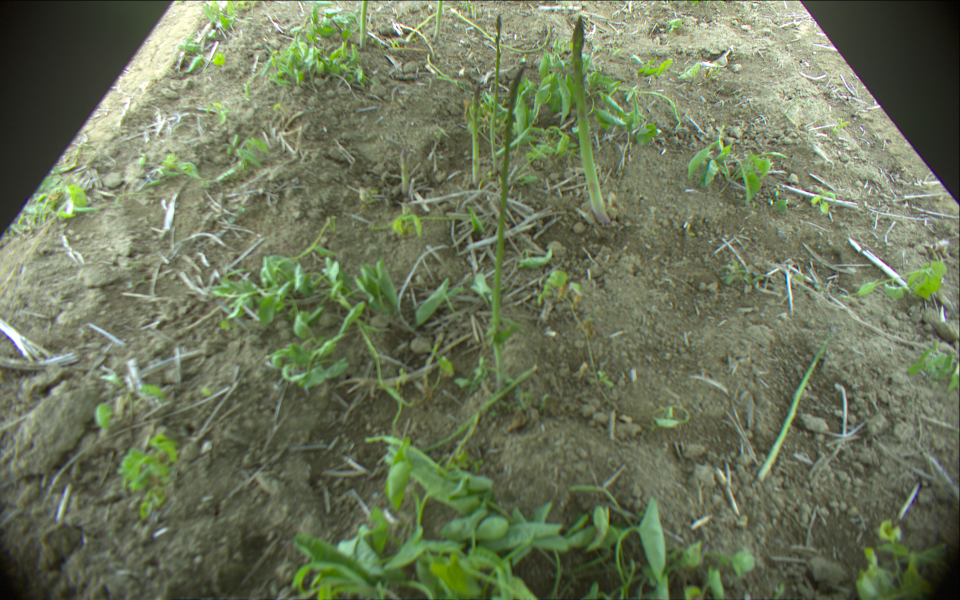aspa: (757, 320, 840, 479), (484, 66, 528, 345), (571, 14, 613, 224), (450, 6, 551, 53), (489, 13, 502, 176), (471, 82, 484, 191), (408, 10, 438, 43), (358, 1, 371, 47), (400, 147, 410, 205), (433, 1, 445, 39)
